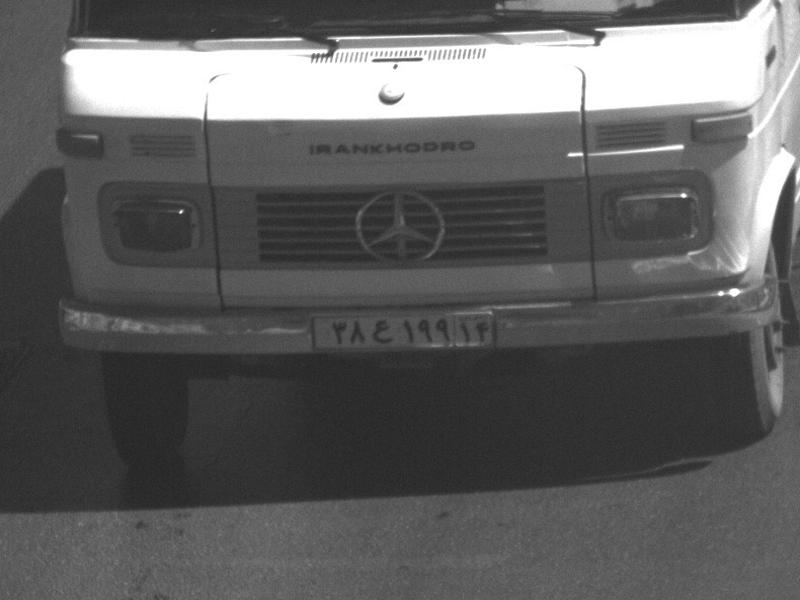Plate: (316, 314, 499, 349)
